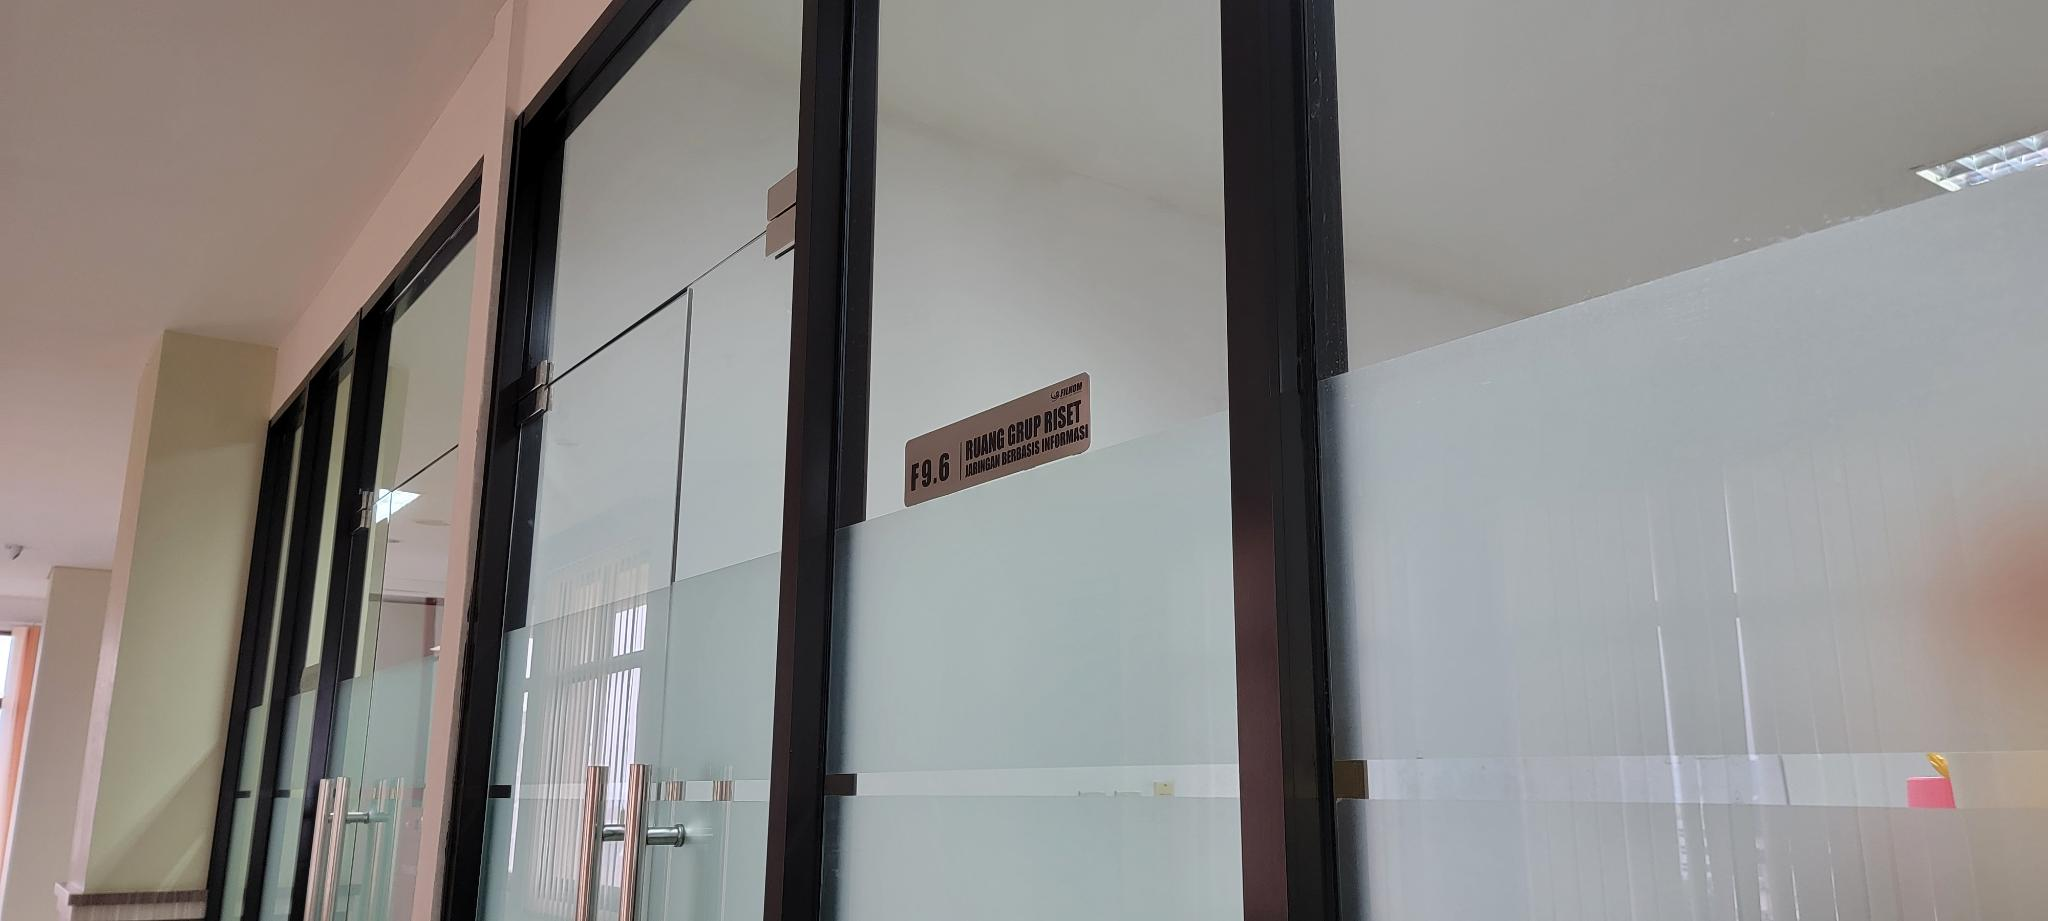plate: (903, 370, 1093, 511)
